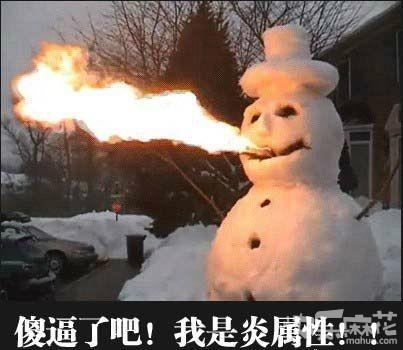fire: (16, 40, 254, 152)
